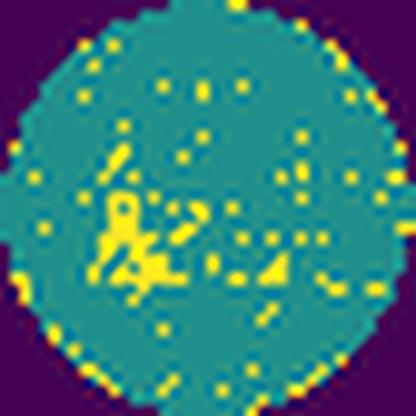Loc: (86, 190, 189, 293)
